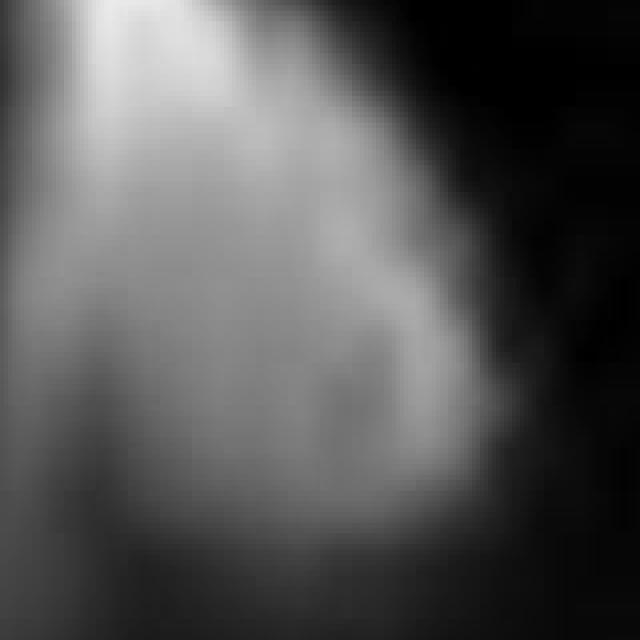person: (1, 1, 513, 640)
